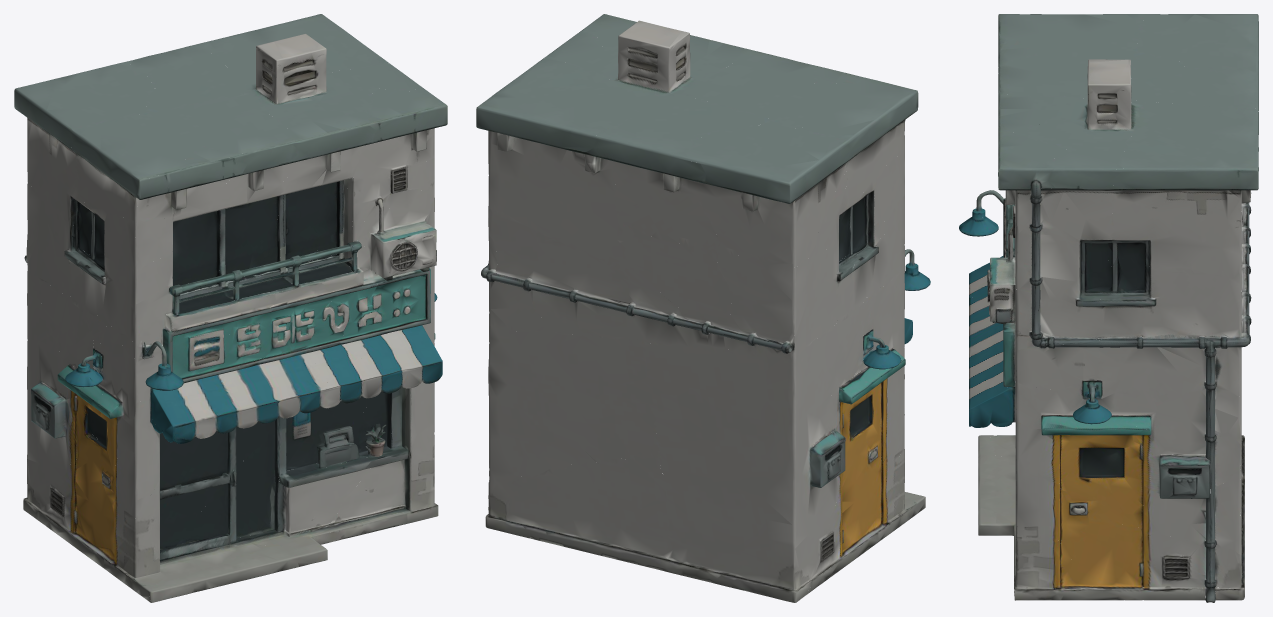
File: building3.glb
3 renders of one model, left to right at view 1: azimuth 30°, elevation 25°; view 2: azimuth 150°, elevation 25°; view 3: azimuth 270°, elevation 25°, orthographic. The views are drawn at different scales.
Parts seen in each view (by area): view 1: tripo_node_085d2069-5892-4463-b782-c16ed41e53c6; view 2: tripo_node_085d2069-5892-4463-b782-c16ed41e53c6; view 3: tripo_node_085d2069-5892-4463-b782-c16ed41e53c6.
Boxes of the visible parts, x1=… form: tripo_node_085d2069-5892-4463-b782-c16ed41e53c6: x1=14, y1=14, x2=447, y2=602; tripo_node_085d2069-5892-4463-b782-c16ed41e53c6: x1=476, y1=14, x2=930, y2=602; tripo_node_085d2069-5892-4463-b782-c16ed41e53c6: x1=959, y1=14, x2=1258, y2=602.
Size of the model in its own units: 0.8327 by 0.9999 by 0.5687.
Materials: 1 (1 with a texture image).
